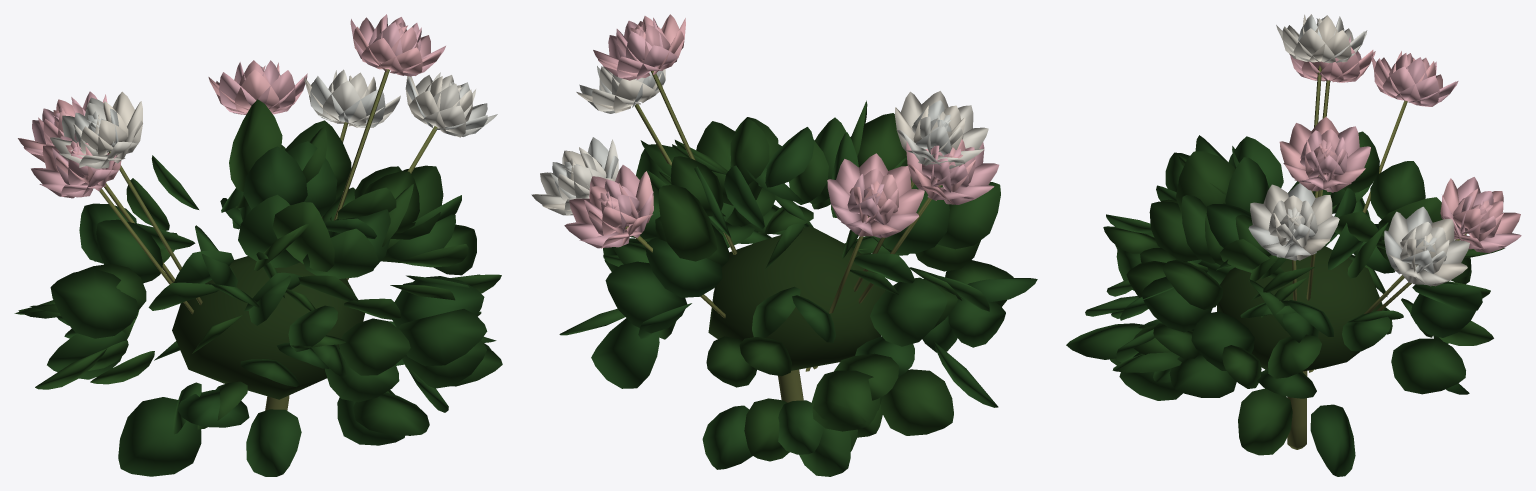
The model's file is bed_peony.glb.
3 renders of one model, left to right at view 1: azimuth 30°, elevation 25°; view 2: azimuth 150°, elevation 25°; view 3: azimuth 270°, elevation 25°, orthographic. The views are drawn at different scales.
Visible parts, largest first — view 1: Sammel Pflanze, Sammel Blatt, Sammel Putz; view 2: Sammel Pflanze, Sammel Blatt, Sammel Putz; view 3: Sammel Pflanze, Sammel Blatt, Sammel Putz.
Part boxes in pixels (box(x1,y1,x2,y2)): Sammel Pflanze: box(14, 14, 502, 476); Sammel Blatt: box(172, 256, 364, 399); Sammel Putz: box(99, 69, 437, 410); Sammel Pflanze: box(531, 14, 1037, 476); Sammel Blatt: box(708, 226, 885, 370); Sammel Putz: box(625, 71, 941, 402); Sammel Pflanze: box(1066, 14, 1521, 476); Sammel Blatt: box(1217, 246, 1382, 371); Sammel Putz: box(1287, 65, 1466, 449).
Size of the model in its own units: 0.5997 by 0.5455 by 0.594.
